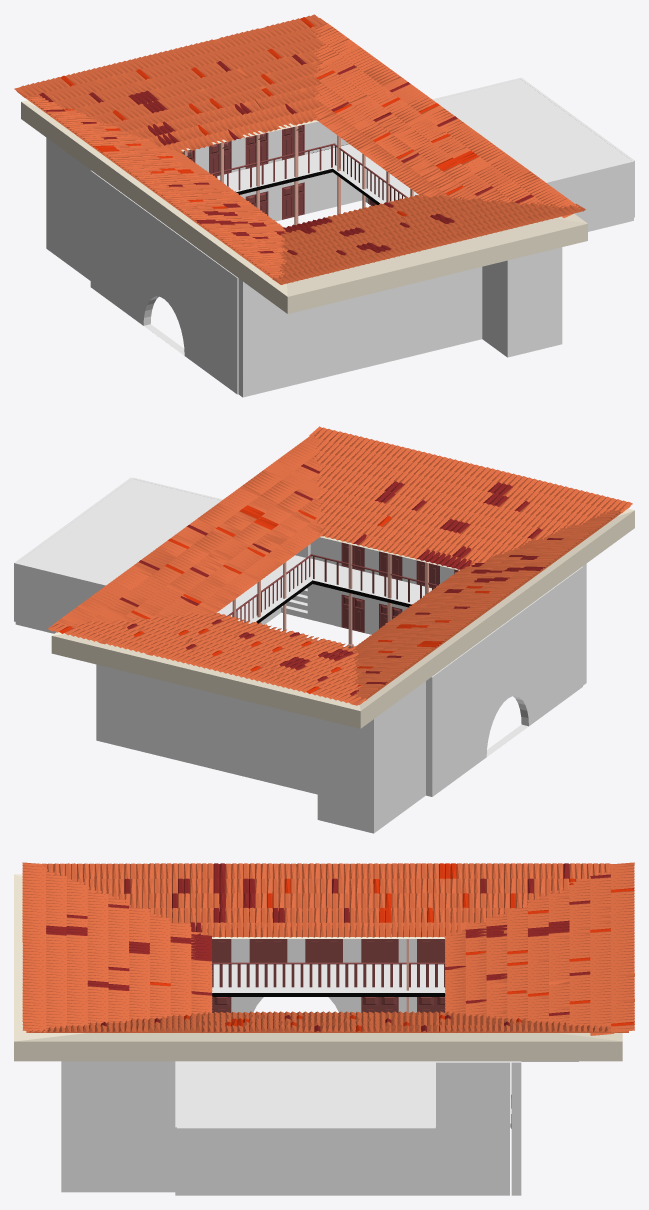
The model's file is conservatorio_int.glb.
3 views of the same model, one above another, from view 1: azimuth 30°, elevation 25°; view 2: azimuth 150°, elevation 25°; view 3: azimuth 270°, elevation 25° (orthographic). The views are drawn at different scales.
Parts seen in each view (by area): view 1: Cube.021, conexionEscaleras.001, Pared2, conexionEscaleras, Pared 2; view 2: Cube.021, conexionEscaleras, Pared2, Pared 2, conexionEscaleras.001, BarandalBottom.001; view 3: Cube.021, Pared 2, conexionEscaleras.001, Pared2, conexionEscaleras, BarandalBottom, BarandalTop.
Part boxes in pixels (<box>): Cube.021: <box>14,14,587,313</box>; conexionEscaleras.001: <box>238,144,562,397</box>; Pared2: <box>90,170,238,394</box>; conexionEscaleras: <box>46,121,362,280</box>; Pared 2: <box>365,77,634,231</box>; Cube.021: <box>48,426,634,728</box>; conexionEscaleras: <box>96,664,425,833</box>; Pared2: <box>426,566,582,796</box>; Pared 2: <box>14,477,222,633</box>; conexionEscaleras.001: <box>216,537,586,685</box>; BarandalBottom.001: <box>232,557,310,622</box>; Cube.021: <box>14,862,634,1061</box>; Pared 2: <box>175,1061,509,1195</box>; conexionEscaleras.001: <box>61,1061,511,1192</box>; Pared2: <box>212,939,445,1012</box>; conexionEscaleras: <box>212,964,578,1195</box>; BarandalBottom: <box>212,964,445,987</box>; BarandalTop: <box>212,962,445,964</box>.
Size of the model in its own units: 46.17 by 15.25 by 51.75.
